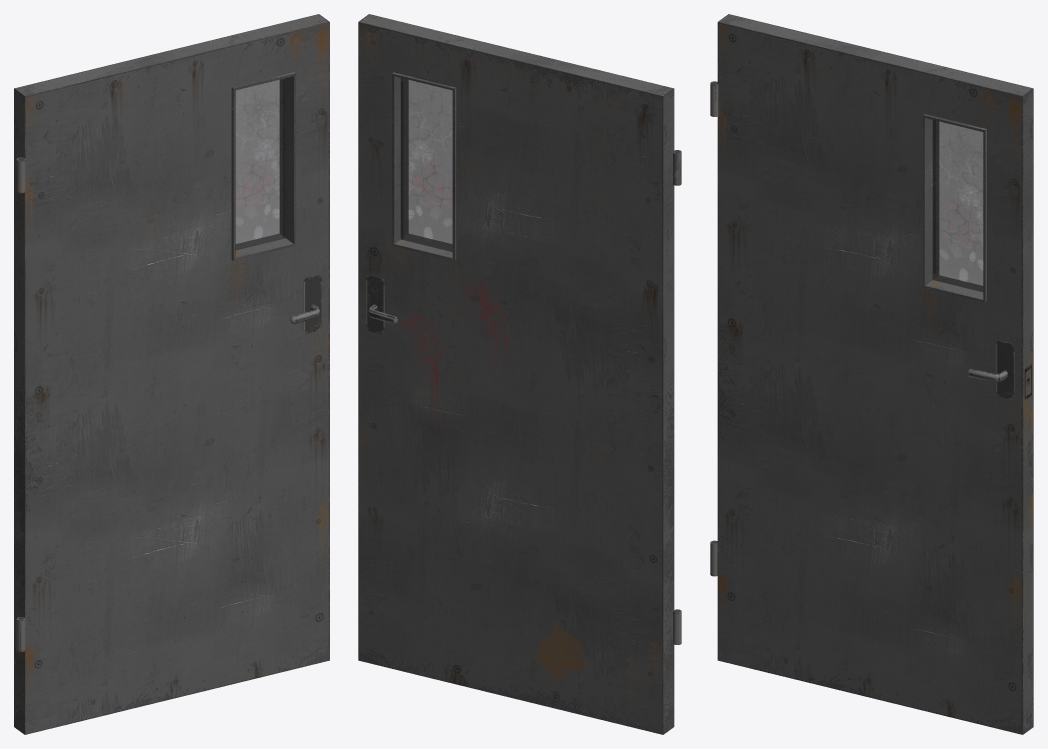
File: metal_door.glb
3 renders of one model, left to right at view 1: azimuth 30°, elevation 25°; view 2: azimuth 150°, elevation 25°; view 3: azimuth 330°, elevation 25°, orthographic.
Parts seen in each view (by area): view 1: Plane; view 2: Plane; view 3: Plane.
Part boxes in pixels (box(x1,y1,x2,y2)): Plane: box(14, 14, 329, 734); Plane: box(358, 14, 681, 734); Plane: box(710, 14, 1033, 734).
Bounding box in the file's own units: 1.07 × 2.09 × 0.1751.
1 material, 1 textured.
